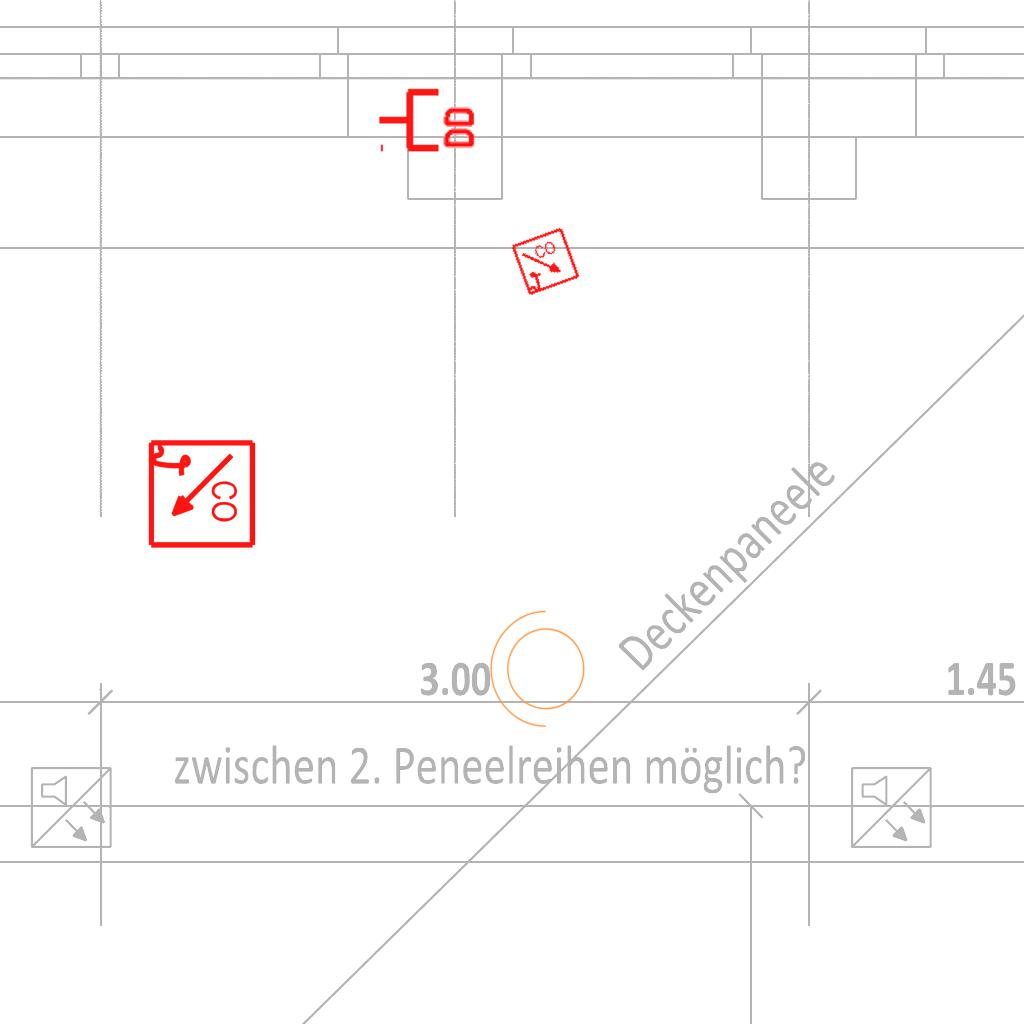Datenanschluss_zweifach: (376, 84, 479, 153)
ROA_Rauchmelder_optisch_mit_Signalgeber_(Sockelsirene): (144, 438, 257, 551), (510, 226, 582, 298)
Scheinwerfer_fuer_Alarmbeleuchtung: (485, 606, 597, 738)
